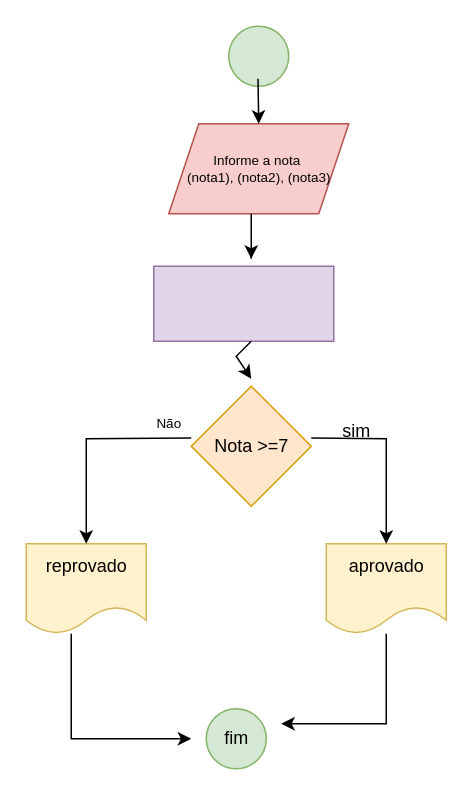
Some shapes in this 473 by 795 pixel diagram are drawn without their labels. Here are the shapes that lost their labels. From the top down, the box of each, then its label:
(227, 25, 289, 86): inicio
(152, 265, 334, 341): media aritimetica de 3 notas
